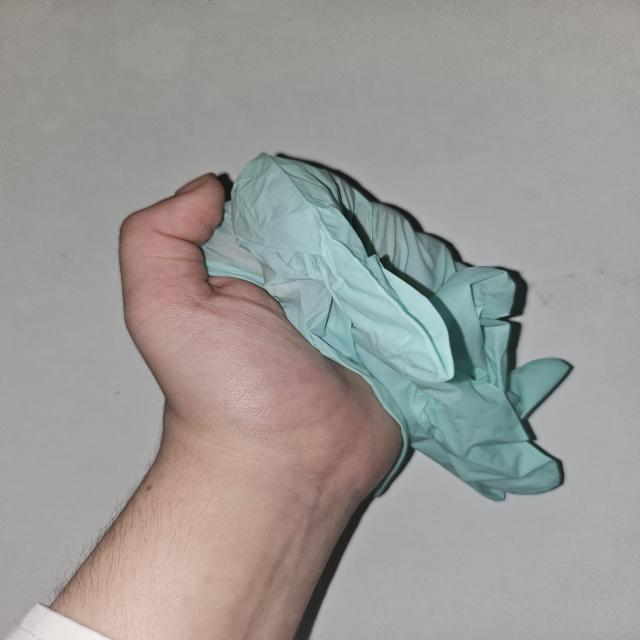glove_partial: (115, 150, 572, 504)
